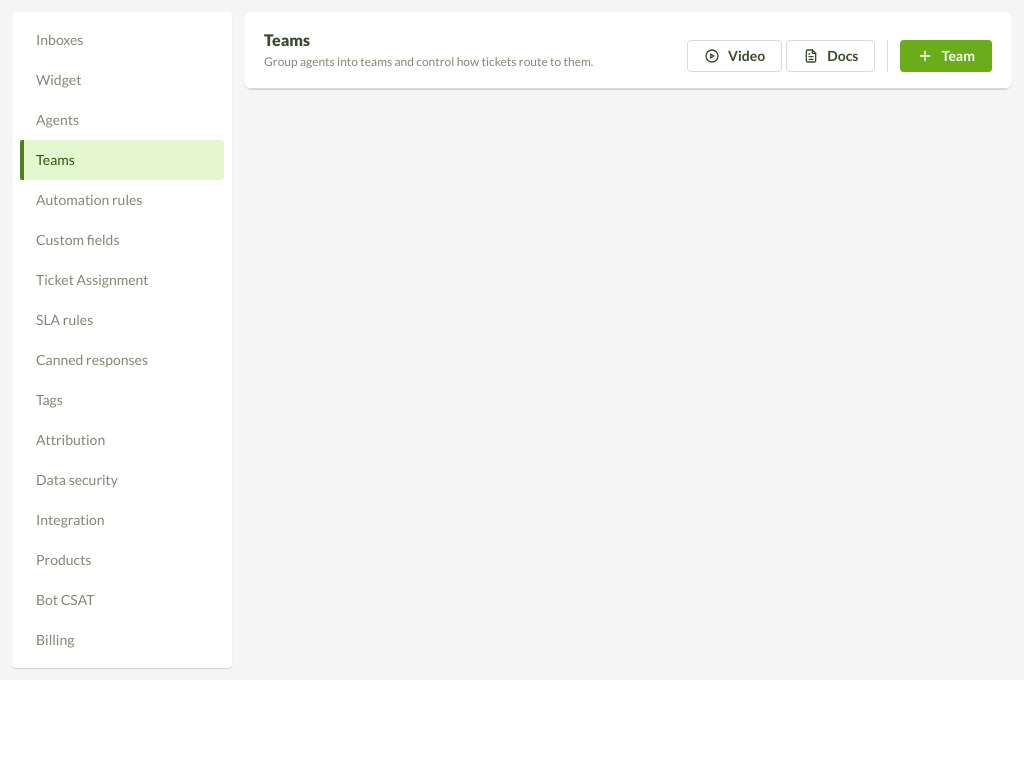
Test case: SettingsScreen tabs › switches content when another tab is chosen
Click the button "Automation rules" at (122, 200), box [20, 180, 224, 220]
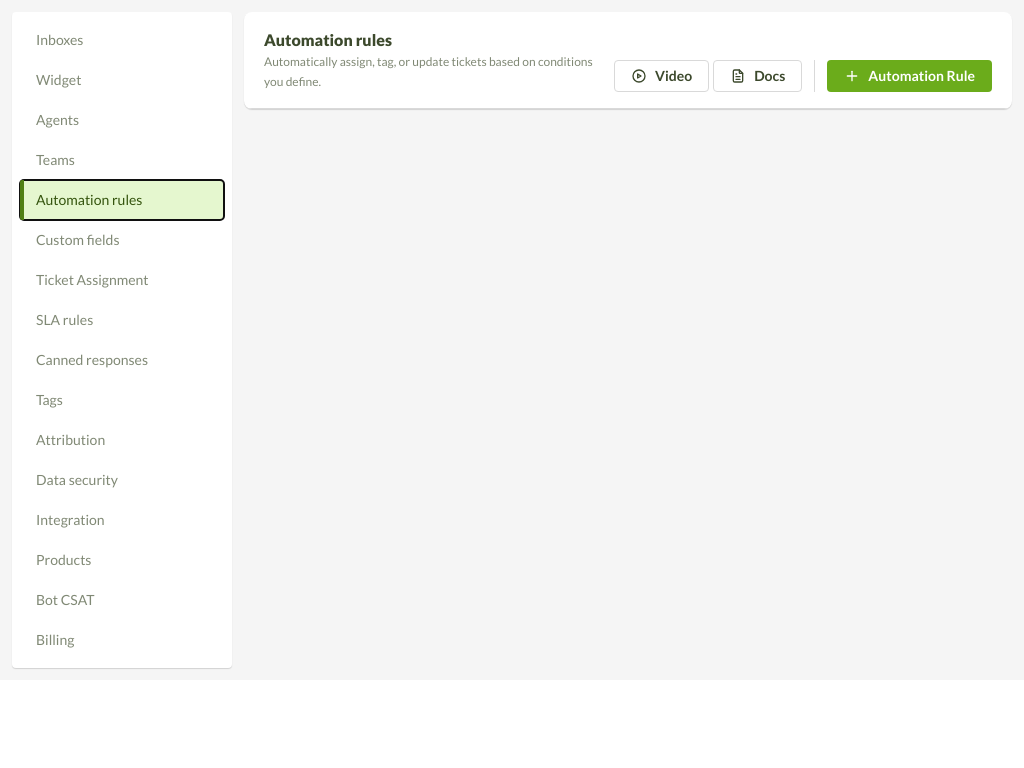
Expected: the text "Customer Support" is not shown
Now the heading reads "Automation rules", box [264, 30, 392, 49]
